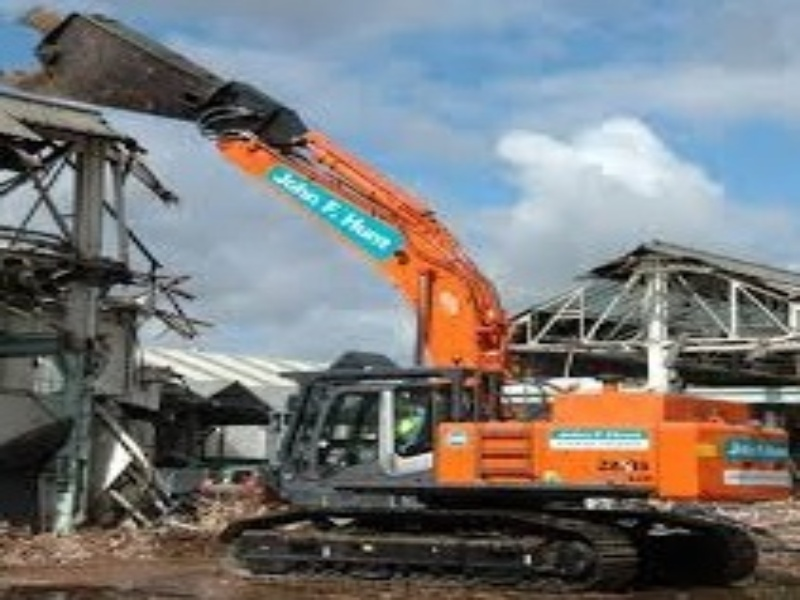wajueji: (216, 198, 764, 600)
